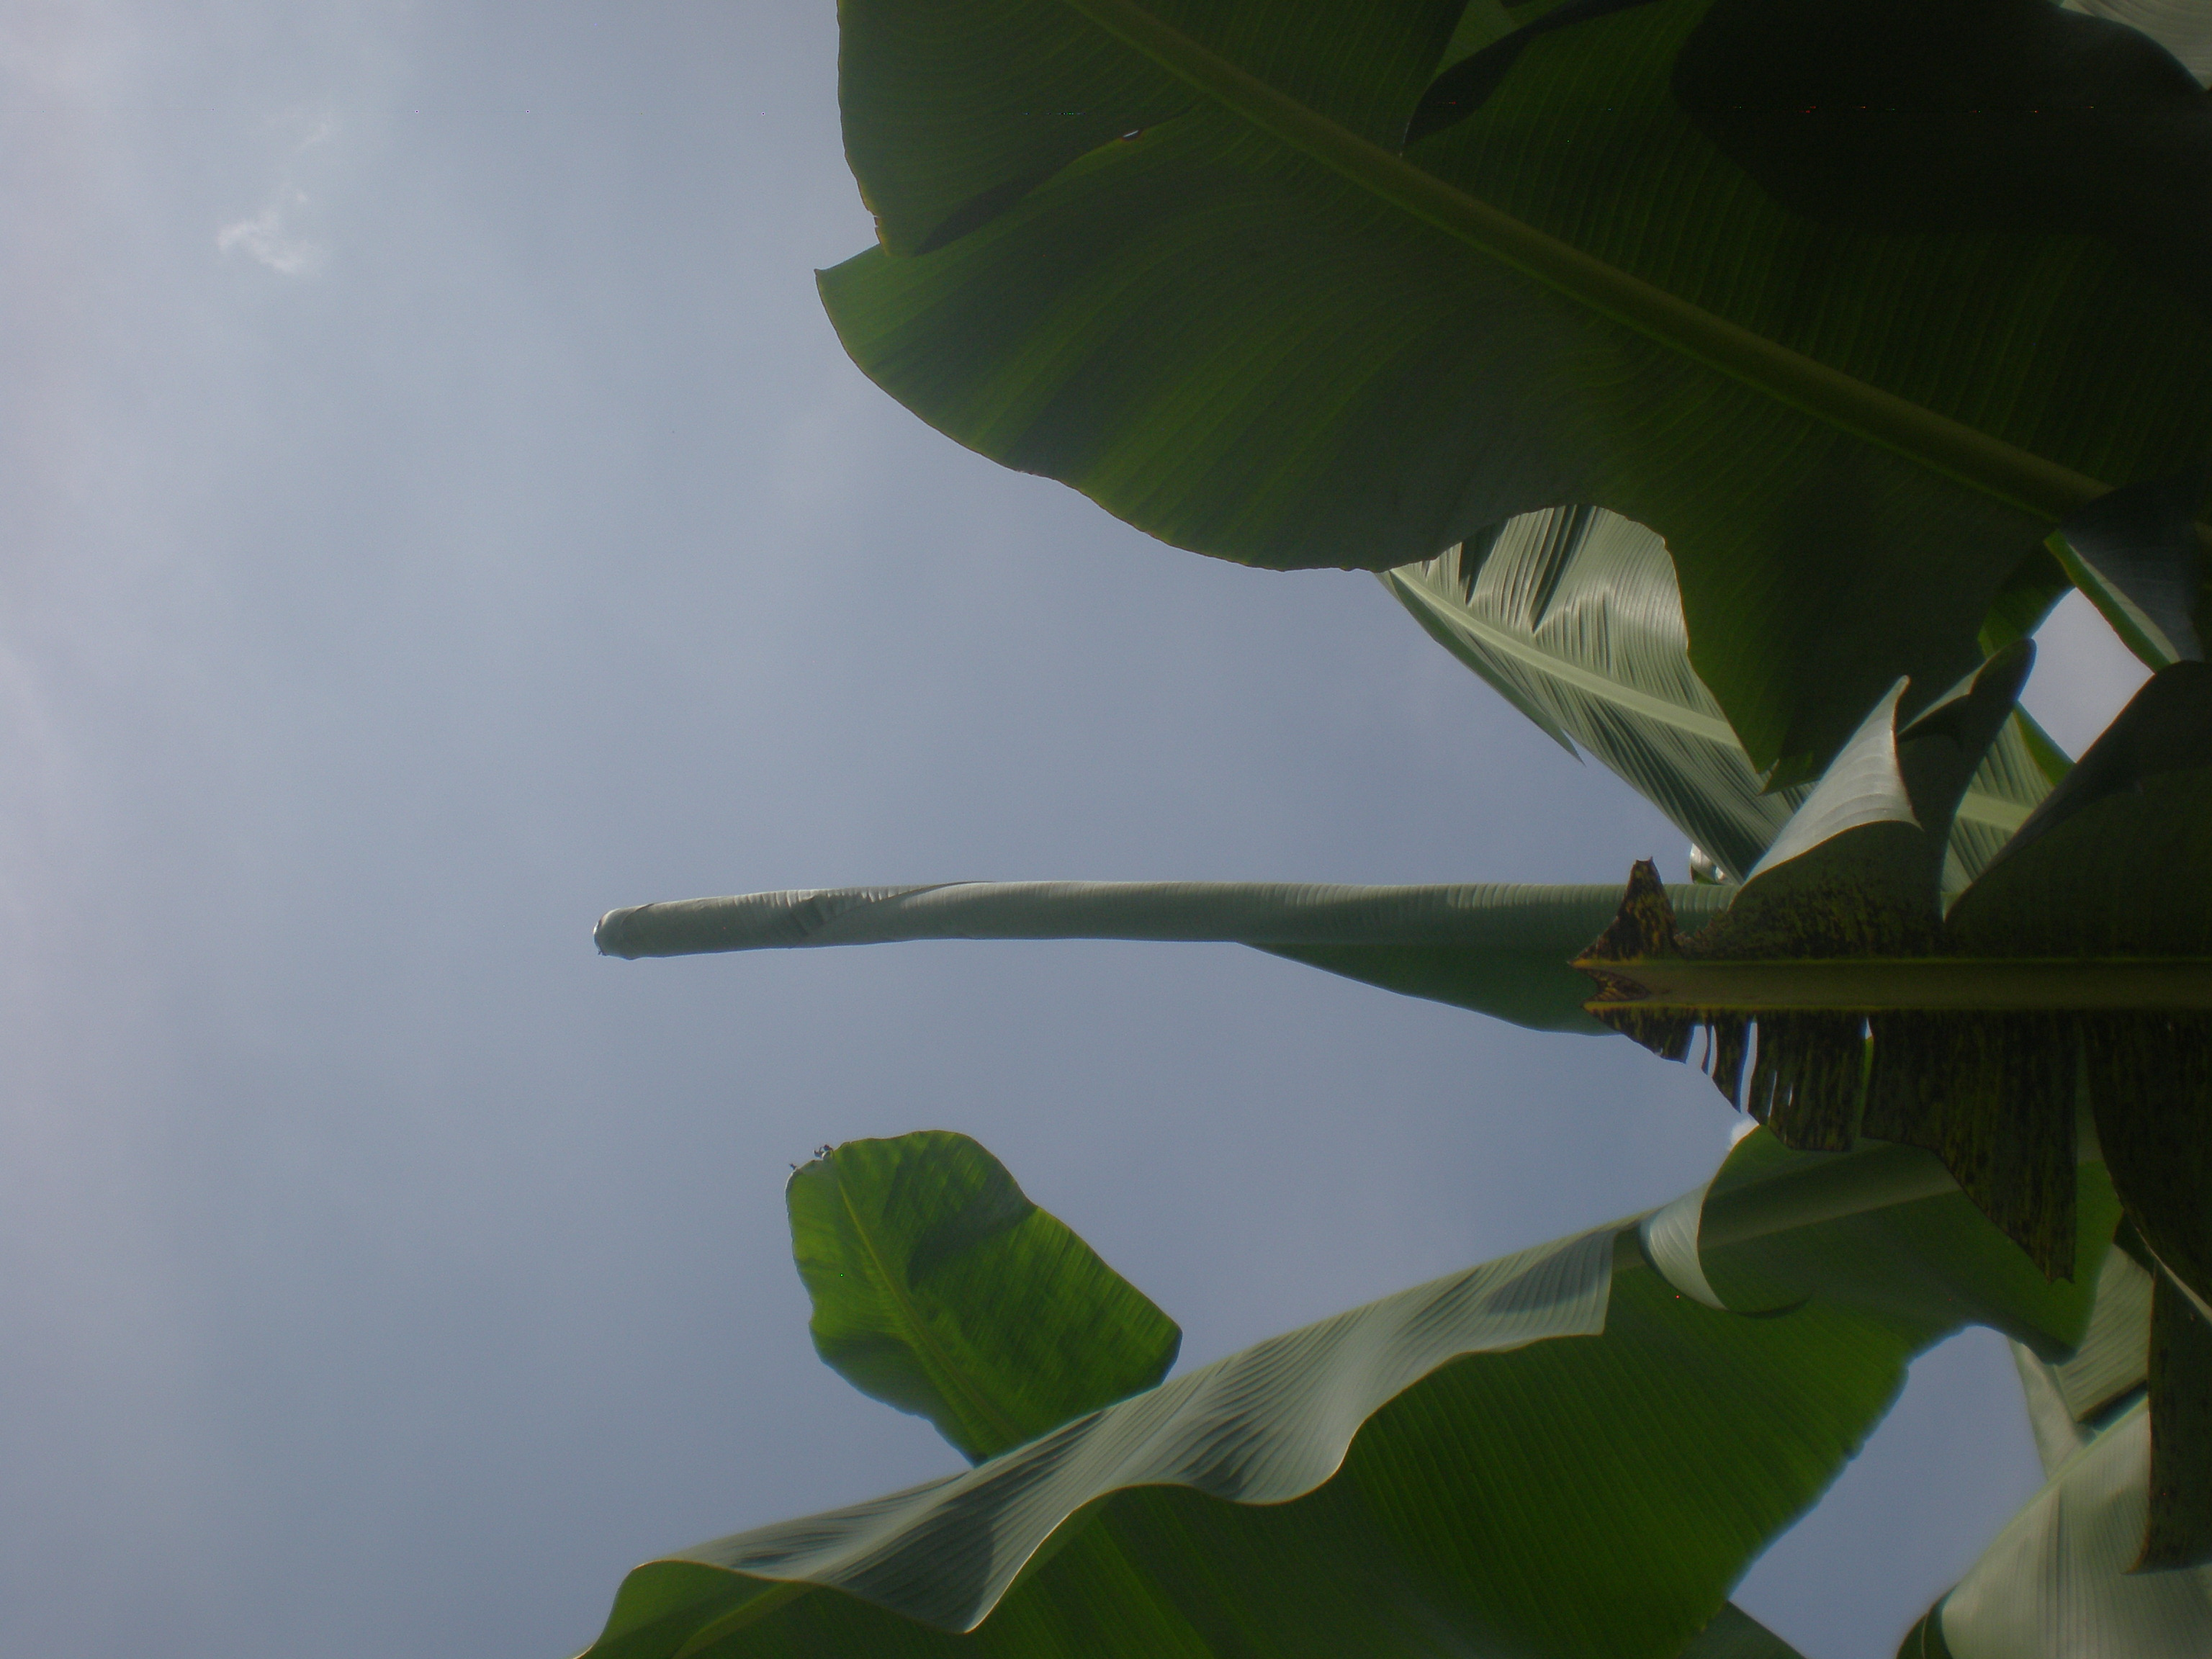candleleafs: (590, 878, 1608, 967)
